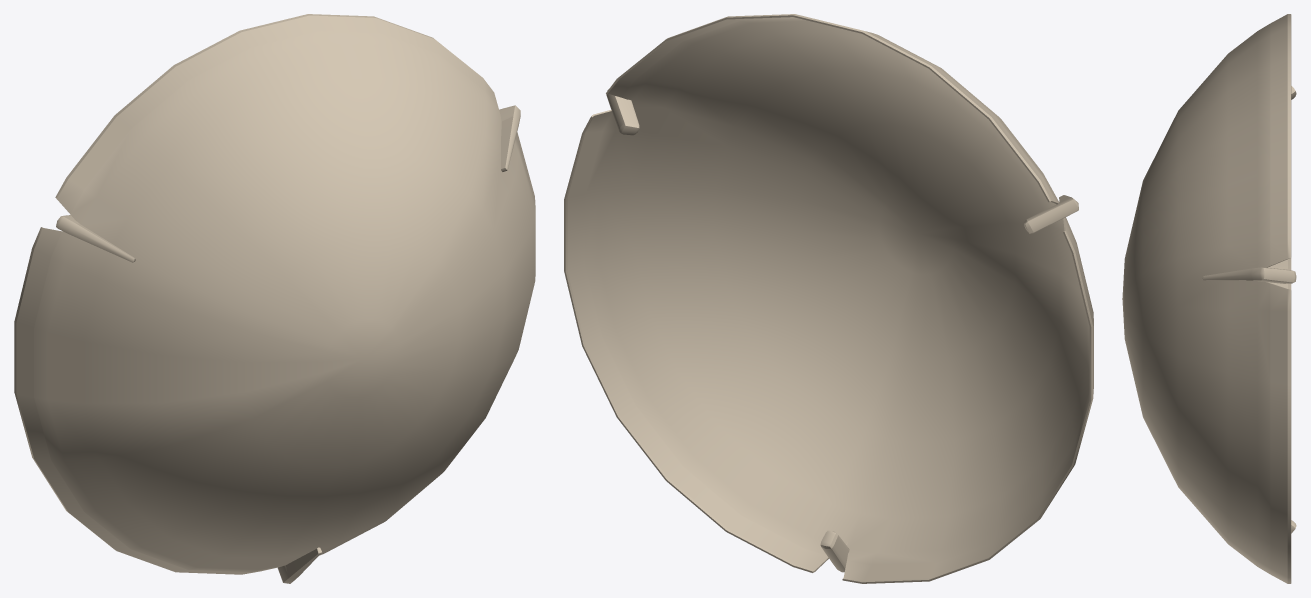
File: round_lamp_36_L.fbx
The picture shows the model from 3 angles, left to right: view 1: azimuth 30°, elevation 25°; view 2: azimuth 150°, elevation 25°; view 3: azimuth 270°, elevation 25°; orthographic projection. The views are drawn at different scales.
Visible parts, largest first — view 1: round_lamp_36_L; view 2: round_lamp_36_L; view 3: round_lamp_36_L.
Part boxes in pixels (left/top/right/bottom): round_lamp_36_L: left=14, top=14, right=535, bottom=583; round_lamp_36_L: left=564, top=14, right=1093, bottom=583; round_lamp_36_L: left=1122, top=14, right=1296, bottom=583.
Size of the model in its own units: 8.64 by 8.75 by 2.66.
